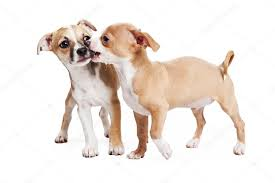chihuahua: (87, 18, 250, 157), (35, 19, 124, 155)
